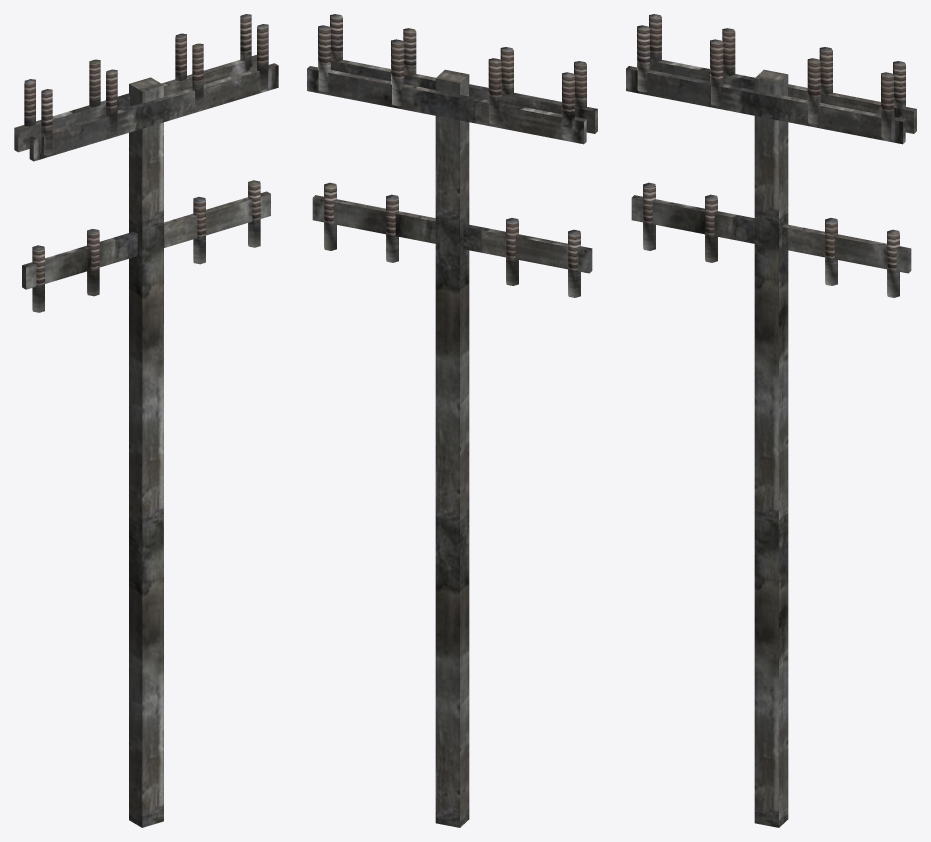
File: post.glb
3 views of the same model, side by side, from view 1: azimuth 30°, elevation 25°; view 2: azimuth 150°, elevation 25°; view 3: azimuth 330°, elevation 25° (orthographic).
Bounding box in the file's own units: 1.16 × 3.26 × 0.2452.
1 material, 1 textured.
